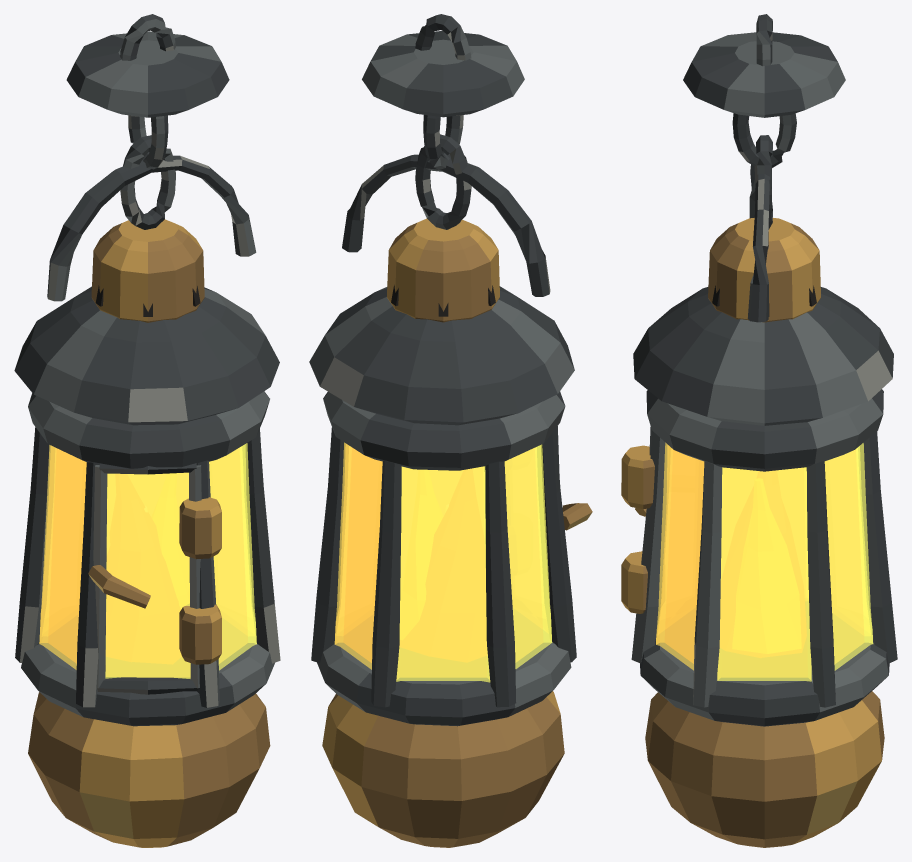
File: cellar_lantern_v2.glb
3 views of the same model, side by side, from view 1: azimuth 30°, elevation 25°; view 2: azimuth 150°, elevation 25°; view 3: azimuth 270°, elevation 25° (orthographic).
Visible parts, largest first — view 1: LanternStatic; view 2: LanternStatic; view 3: LanternStatic.
Part boxes in pixels (<box>): LanternStatic: <box>14,14,280,847</box>; LanternStatic: <box>309,14,592,847</box>; LanternStatic: <box>621,14,897,847</box>.
Bounding box in the file's own units: 0.512 × 1.73 × 0.5317.
